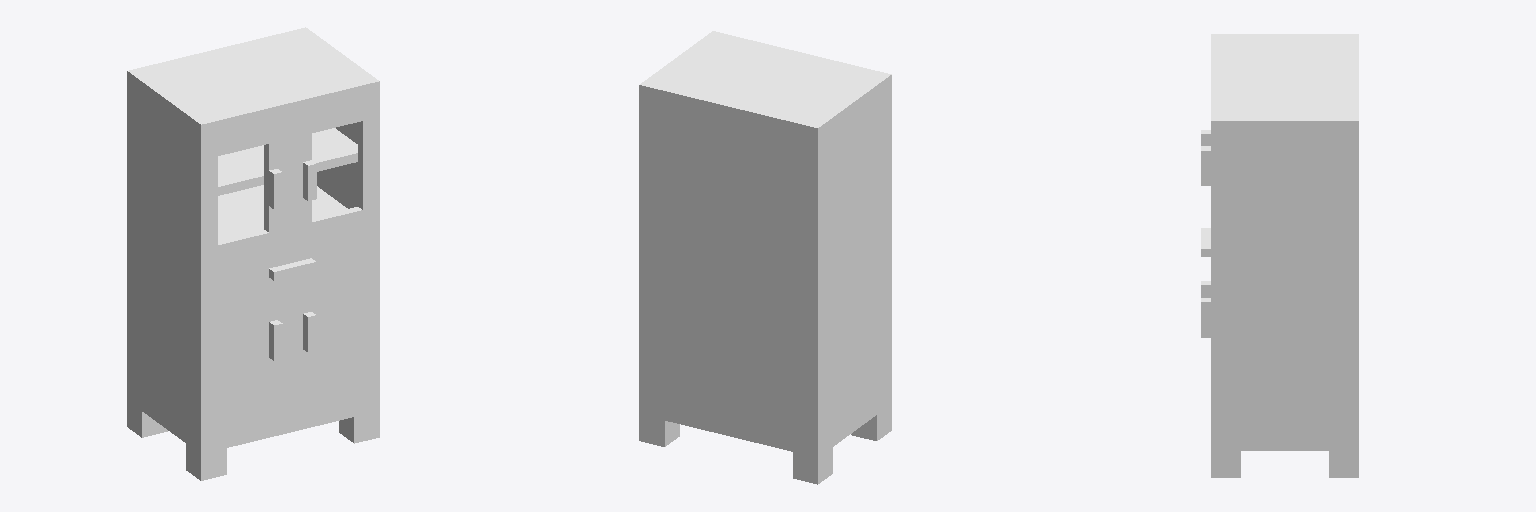
Rendered from kitchen_shelf.obj.
The picture shows the model from 3 angles: view 1: azimuth 30°, elevation 25°; view 2: azimuth 150°, elevation 25°; view 3: azimuth 270°, elevation 25°; orthographic projection.
Parts seen in each view (by area): view 1: object 1; view 2: object 1; view 3: object 1.
Boxes of the visible parts, x1=… form: object 1: x1=127, y1=27, x2=379, y2=480; object 1: x1=639, y1=31, x2=891, y2=484; object 1: x1=1201, y1=34, x2=1358, y2=477.
Size of the model in its own units: 2.1 by 4 by 1.6.